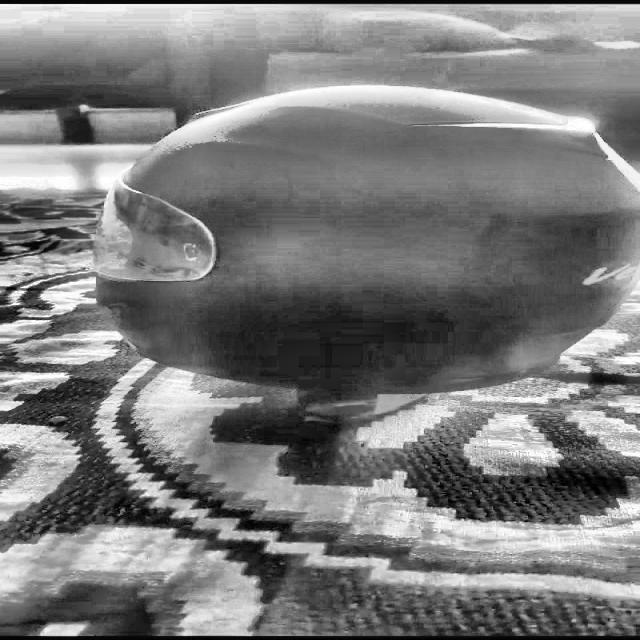Helmet: (83, 93, 640, 391)
